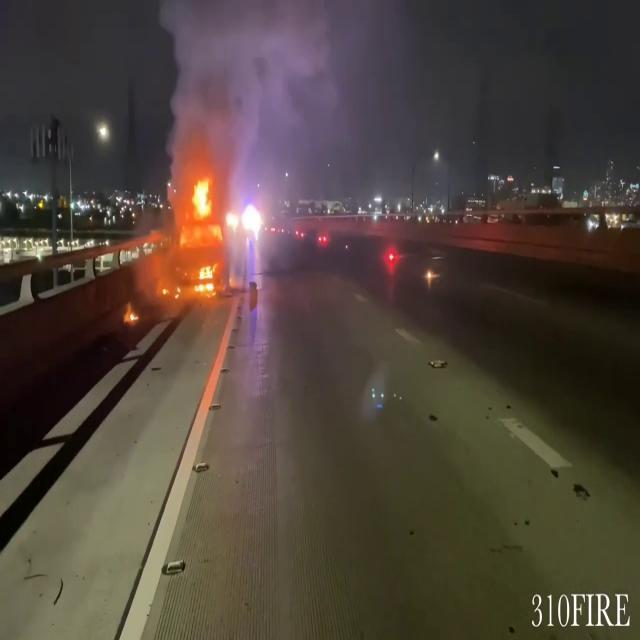Fire: (173, 168, 223, 246)
Smoke: (158, 0, 366, 192)
